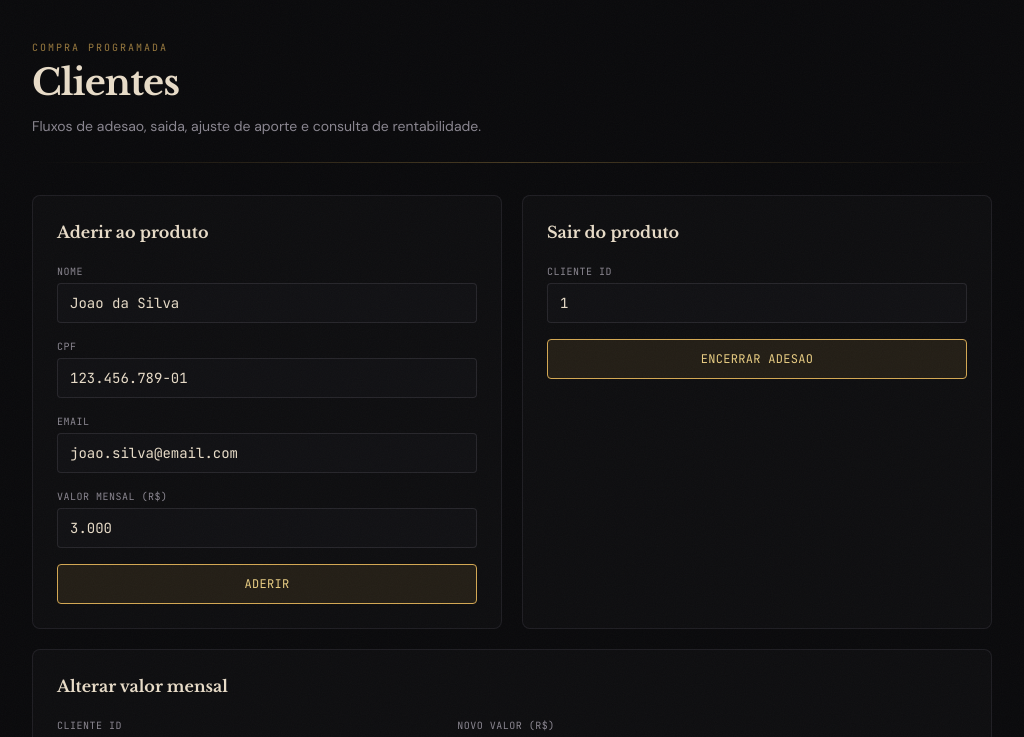
ClientesPage › shows validation errors for invalid values
Clear the field showing "3.000" below "Valor Mensal (R$)" at (267, 528), box [57,508,477,548]
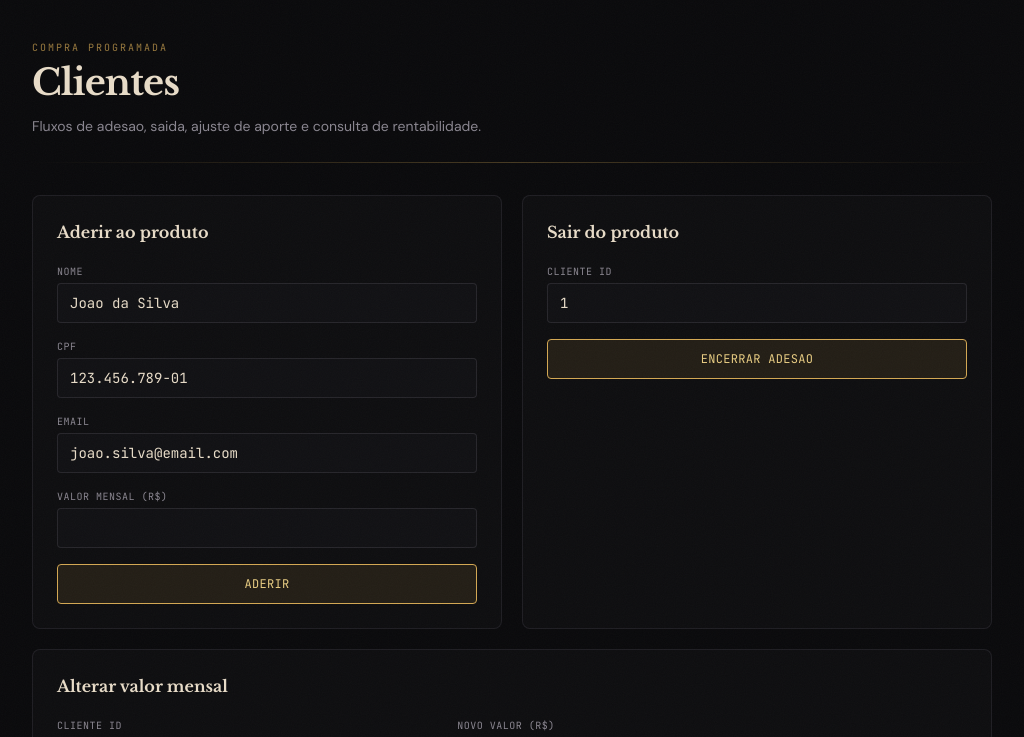
Click the button "Aderir".
click(267, 584)  # box [57,564,477,604]
(page scrolled)
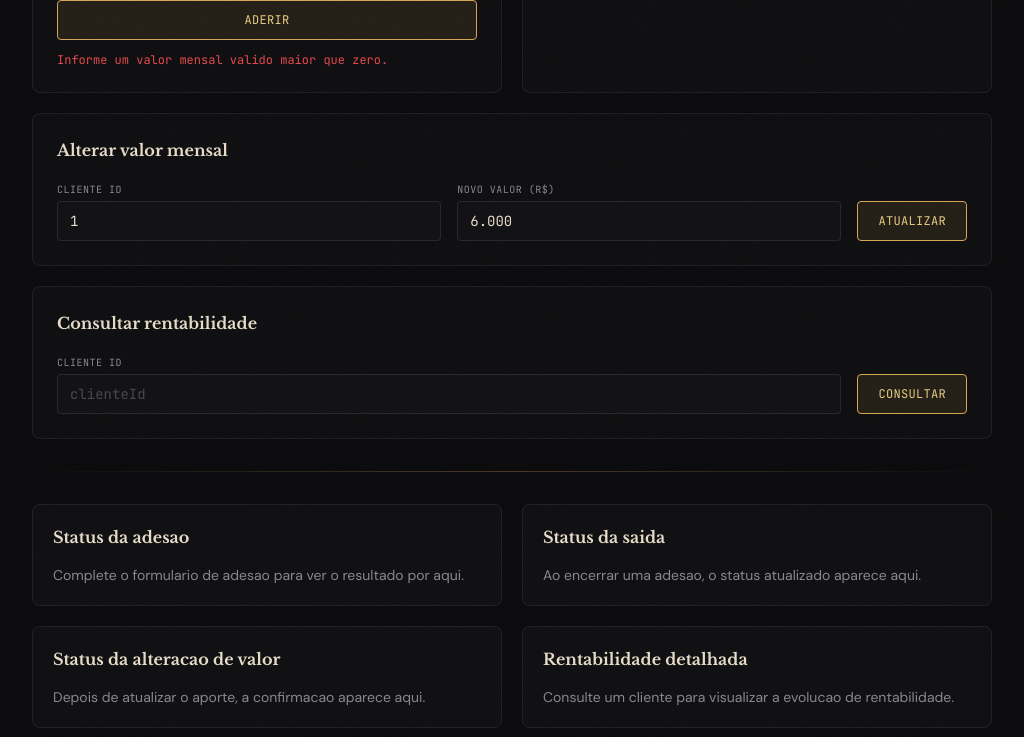
Expected: the text "Informe um valor mensal valido maior que zero." is shown, [57,52,388,68]
Click the button "Consultar".
click(912, 394)  # box [858,374,967,414]
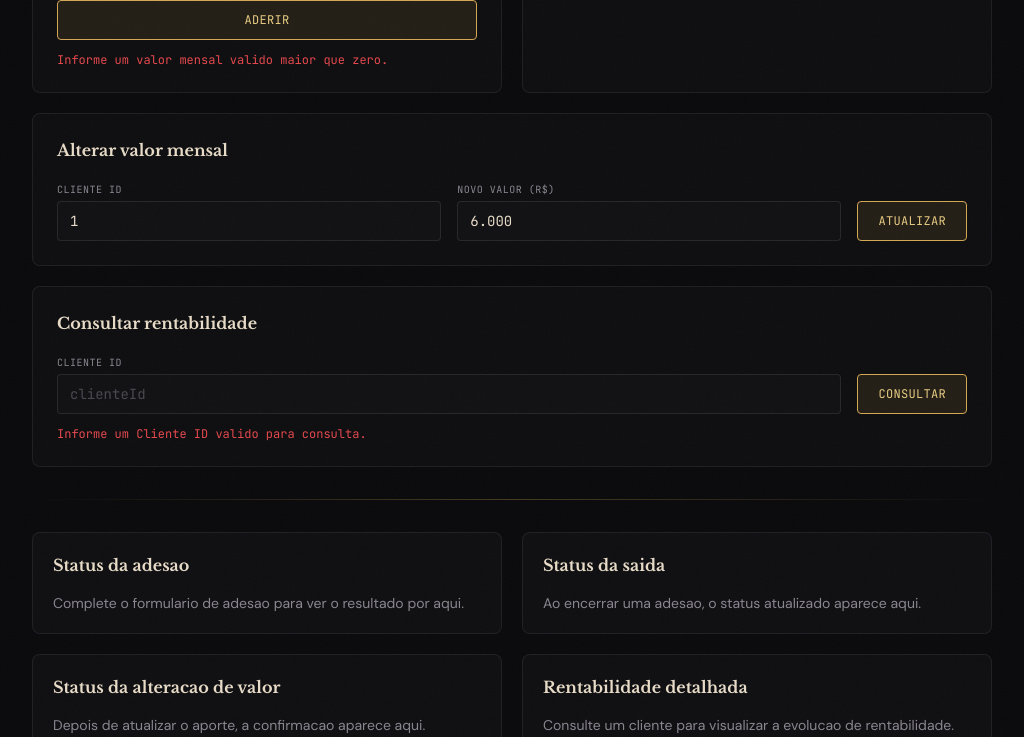
Expected: the text "Informe um Cliente ID valido para consulta." is shown, [57,426,367,442]
